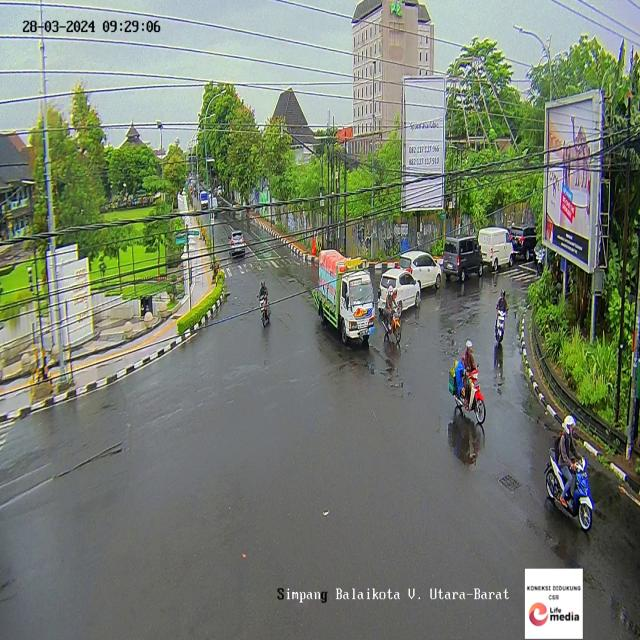car: (441, 236, 483, 284), (379, 268, 424, 310), (401, 250, 445, 292), (478, 228, 515, 270), (510, 222, 541, 258), (228, 229, 247, 261)
motorcycle: (542, 411, 593, 536), (449, 338, 485, 429), (381, 285, 400, 351), (494, 286, 510, 350), (258, 280, 272, 329)
truck: (312, 252, 378, 346)
